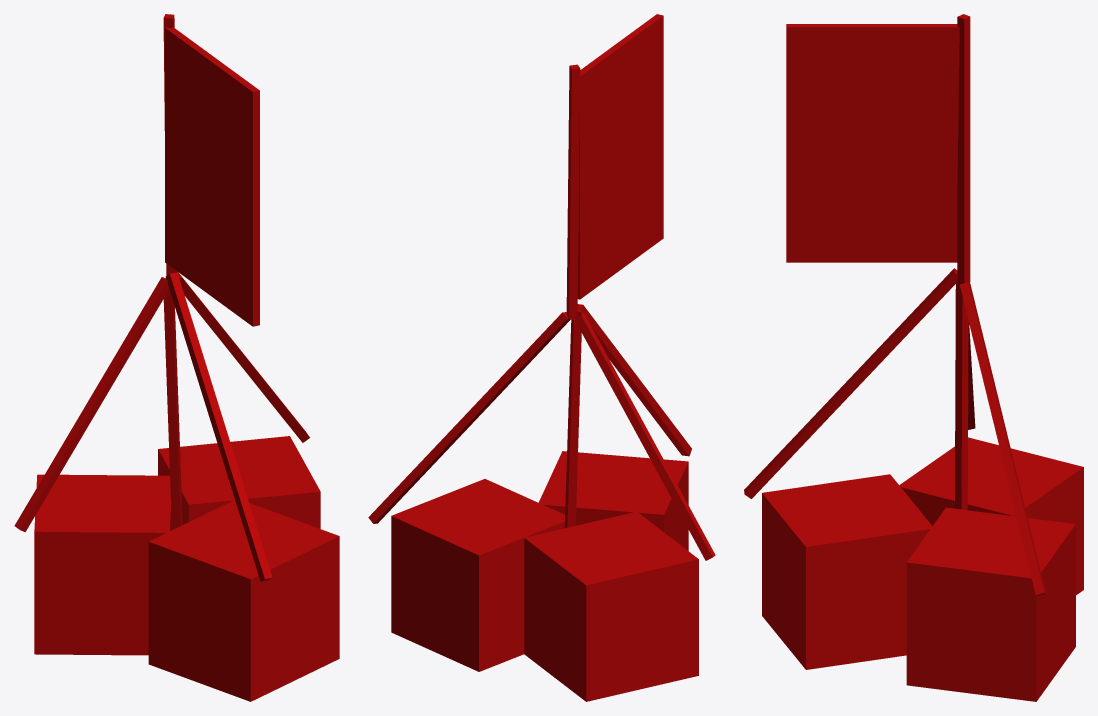
File: SM_Prop_PirateFlag_01_Collision.gltf
3 renders of one model, left to right at view 1: azimuth 30°, elevation 25°; view 2: azimuth 150°, elevation 25°; view 3: azimuth 270°, elevation 25°, orthographic. The views are drawn at different scales.
Visible parts, largest first — view 1: SM_Prop_PirateFlag_01_Collision; view 2: SM_Prop_PirateFlag_01_Collision; view 3: SM_Prop_PirateFlag_01_Collision.
Boxes of the visible parts, bbox=[...] form: SM_Prop_PirateFlag_01_Collision: bbox=[14, 14, 339, 701]; SM_Prop_PirateFlag_01_Collision: bbox=[368, 14, 715, 701]; SM_Prop_PirateFlag_01_Collision: bbox=[744, 14, 1083, 701].
Bounding box in the file's own units: 2.99 × 5.3 × 2.68.
